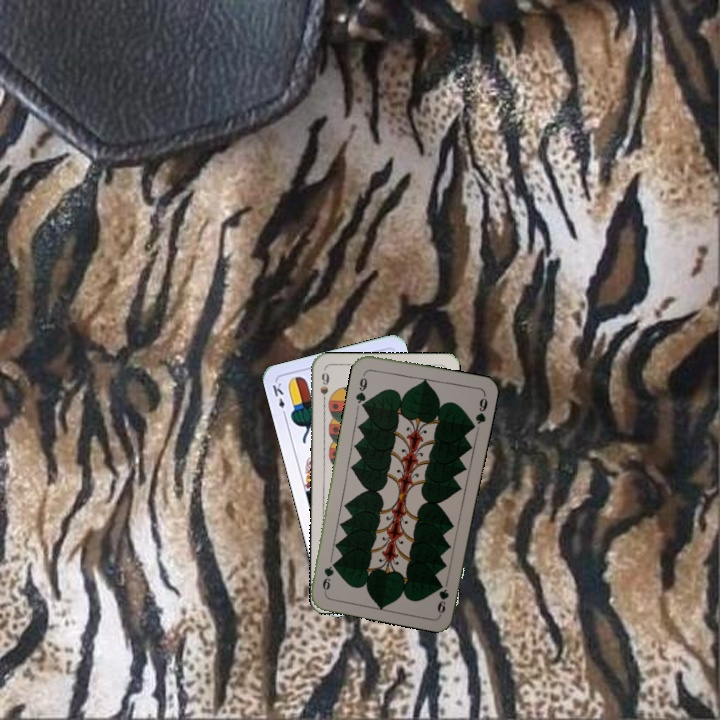EK: (268, 379, 289, 419)
G9: (351, 368, 370, 409), (433, 579, 451, 616)
S9: (316, 368, 332, 408)
